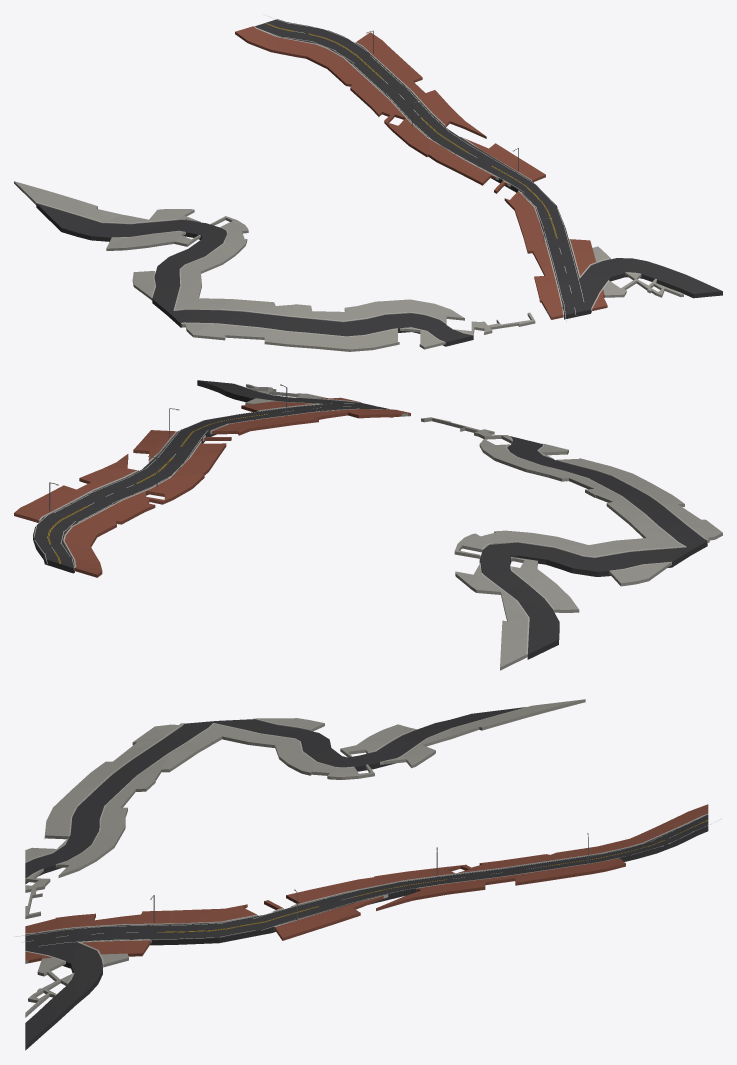
The picture shows the model from 3 angles, top to bottom: view 1: azimuth 30°, elevation 25°; view 2: azimuth 150°, elevation 25°; view 3: azimuth 270°, elevation 25°; orthographic projection. The views are drawn at different scales.
Bounding box in the file's own units: 141 × 34.45 × 151.
